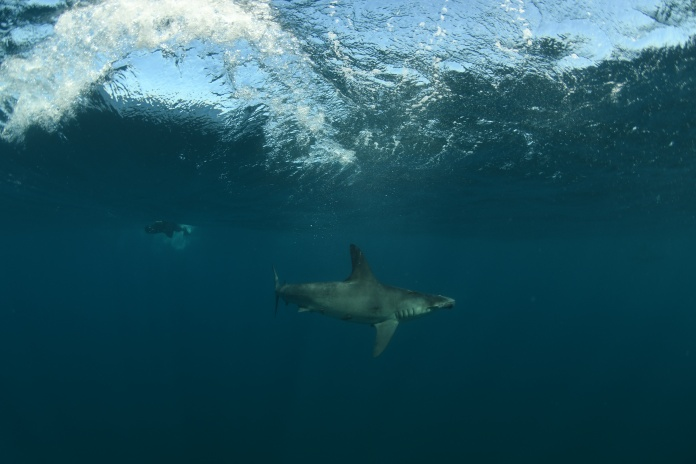Hammer: (256, 234, 484, 374)
